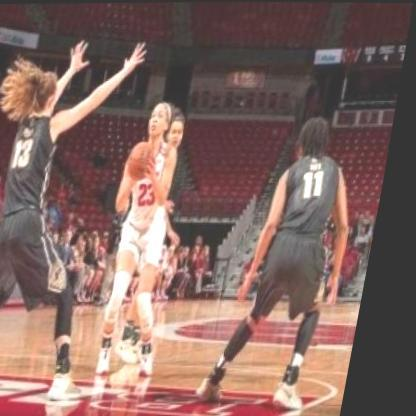basketball: (129, 137, 164, 179)
